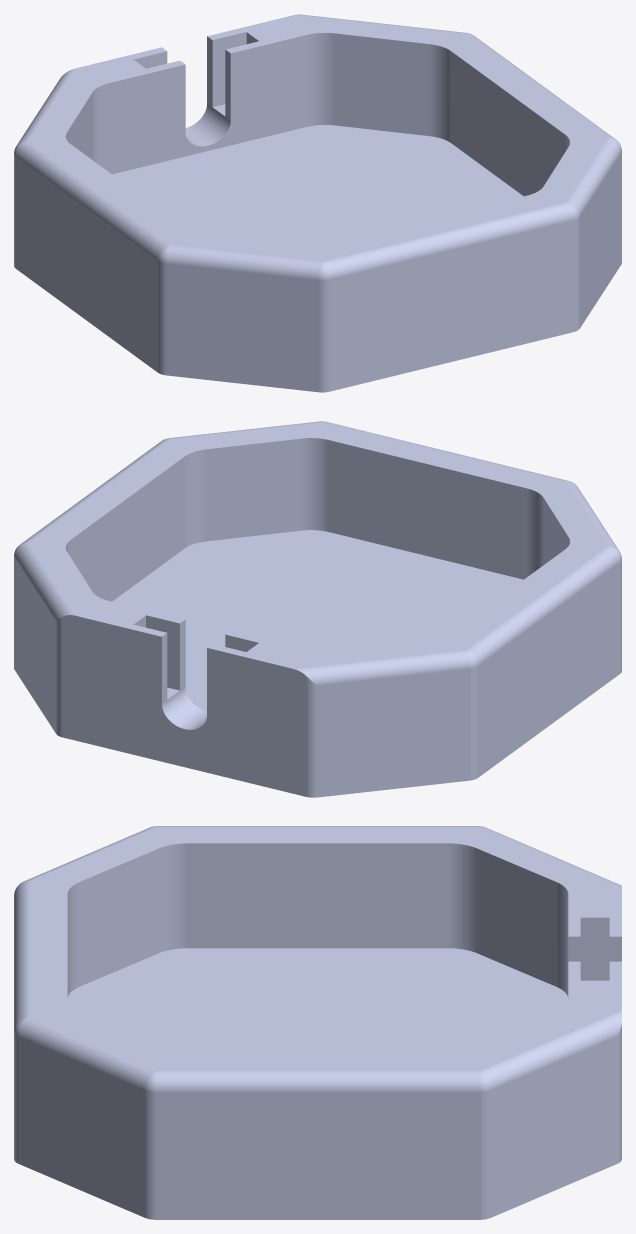
File: Fins_2026_Airframe_V7.obj
The picture shows the model from 3 angles, top to bottom: view 1: azimuth 30°, elevation 25°; view 2: azimuth 150°, elevation 25°; view 3: azimuth 270°, elevation 25°; orthographic projection. The views are drawn at different scales.
Visible parts, largest first — view 1: mesh273, mesh219, mesh272, mesh225, mesh218, mesh259, mesh263, mesh261, mesh235, mesh224, mesh242, mesh234 (+12 smaller); view 2: mesh273, mesh245, mesh272, mesh267, mesh220, mesh218, mesh263, mesh265, mesh222, mesh242, mesh241, mesh266 (+12 smaller); view 3: mesh273, mesh217, mesh272, mesh271, mesh222, mesh224, mesh269, mesh274, mesh238, mesh237, mesh236, mesh270 (+10 smaller).
Boxes of the visible parts, box(x1,y1,x2,y2) form: mesh273: box(112, 125, 523, 245); mesh219: box(329, 220, 573, 391); mesh272: box(28, 15, 607, 261); mesh225: box(166, 264, 318, 392); mesh218: box(16, 157, 157, 372); mesh259: box(109, 35, 306, 174); mesh263: box(451, 51, 565, 196); mesh261: box(334, 33, 429, 135); mesh235: box(323, 202, 572, 279); mesh224: box(580, 153, 621, 327); mesh242: box(16, 141, 169, 260); mesh234: box(166, 244, 322, 280); mesh273: box(112, 530, 523, 711); mesh245: box(62, 615, 306, 796); mesh272: box(28, 422, 606, 668); mesh267: box(329, 440, 526, 579); mesh220: box(317, 669, 469, 797); mesh218: box(478, 562, 619, 777); mesh263: box(70, 457, 184, 601); mesh265: box(206, 438, 301, 541); mesh222: box(14, 559, 55, 732); mesh242: box(466, 546, 619, 665); mesh241: box(294, 650, 469, 685); mesh266: box(301, 438, 328, 531); mesh273: box(67, 948, 568, 1054); mesh217: box(156, 1092, 479, 1219); mesh272: box(30, 827, 621, 1070); mesh271: box(188, 843, 447, 948); mesh222: box(491, 1037, 617, 1217); mesh224: box(18, 1037, 144, 1217); mesh269: box(79, 848, 158, 986); mesh274: box(477, 848, 556, 986); mesh238: box(156, 1070, 479, 1092); mesh237: box(480, 1010, 621, 1090); mesh236: box(18, 1017, 155, 1090); mesh270: box(159, 843, 187, 952).
Size of the model in its own units: 0.0935 by 0.0318 by 0.0935.
